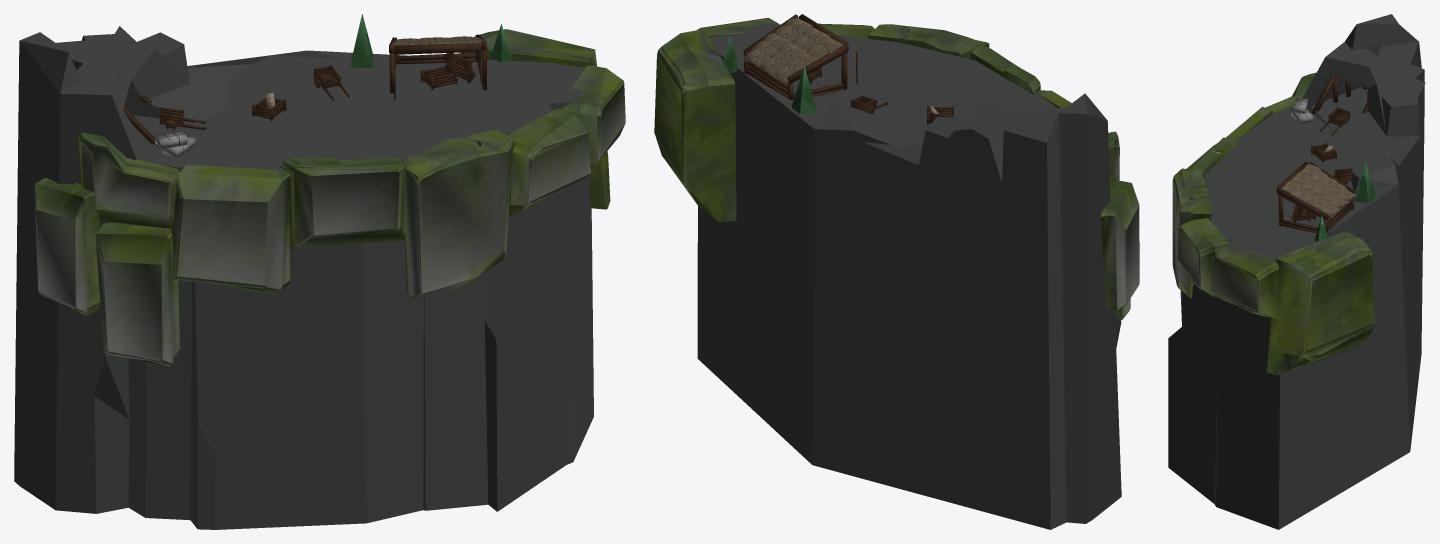
The model's file is mine.glb.
The picture shows the model from 3 angles, left to right: view 1: azimuth 30°, elevation 25°; view 2: azimuth 150°, elevation 25°; view 3: azimuth 270°, elevation 25°; orthographic projection. The views are drawn at different scales.
Visible parts, largest first — view 1: mine; view 2: mine; view 3: mine.
Boxes of the visible parts, x1,y1,x2,y2 form: mine: (14, 14, 625, 529); mine: (654, 14, 1139, 529); mine: (1168, 14, 1425, 529).
Size of the model in its own units: 2.82 by 2.2 by 1.55.
Materials: 7 (3 with a texture image).
